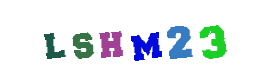2: (128, 0, 208, 80)
3: (174, 0, 254, 80)
H: (94, 0, 174, 80)
L: (30, 0, 110, 80)
M: (106, 0, 186, 80)
S: (71, 0, 151, 80)
